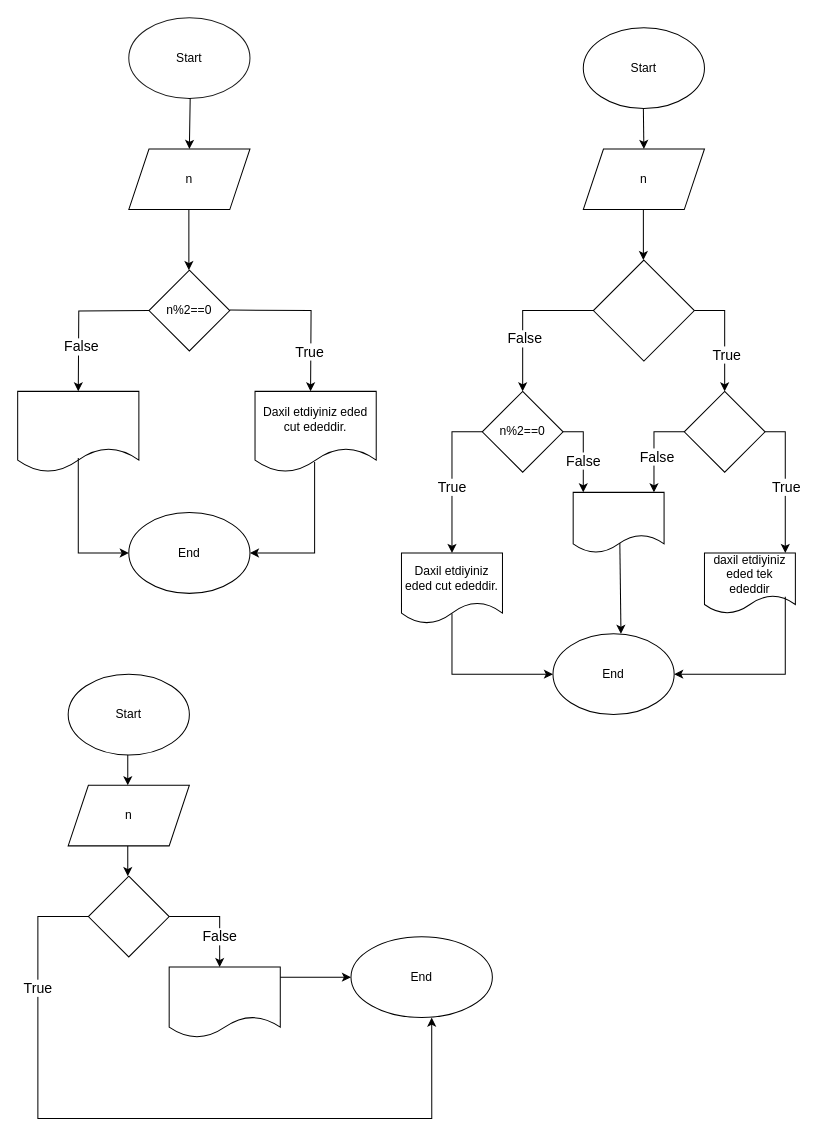
The diagram is 817 pixels wide and 1144 high, and some of its shapes have lost their labels. The centre of each missing label's shape, as x and y in pixels:
"Daxil etdiyiniz eded tek ededdir." goes at point (78, 431).
"Duzgun eded daxil edilmeyib" goes at point (618, 522).
"n%2==1" goes at point (724, 431).
"n<0" goes at point (128, 916).
"n>100" goes at point (643, 310).
"num=n%10; sum +=num; n=Math.floor(n/10)" goes at point (224, 1002).
